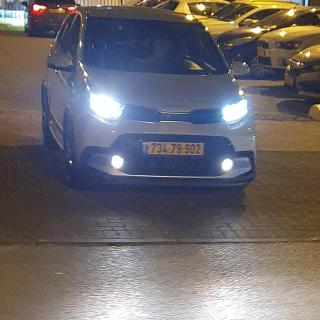LicensePlate: (149, 142, 203, 155)
